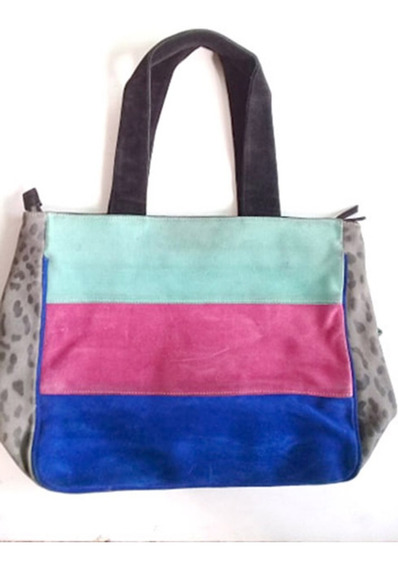cartera: (3, 28, 398, 495)
